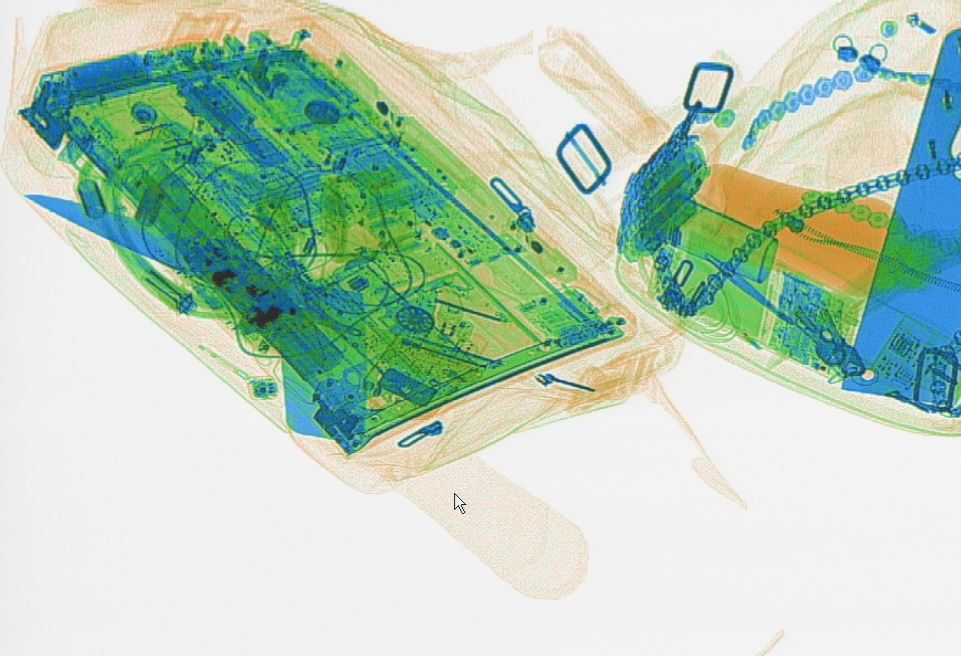knife: (23, 192, 478, 380), (839, 23, 959, 408), (254, 193, 364, 441)
powerbank: (623, 141, 715, 257)
